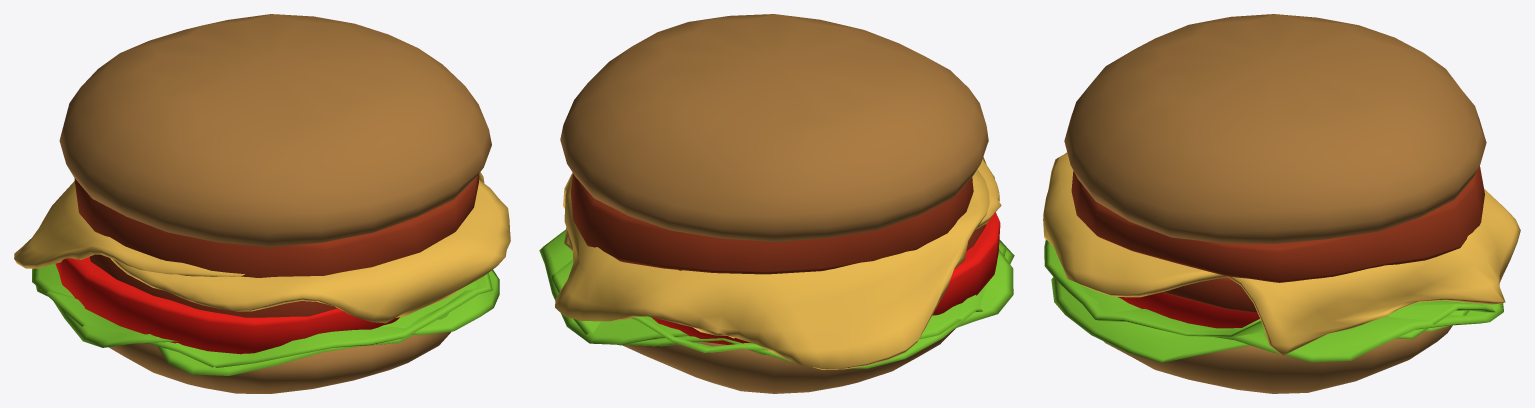
Rendered from BURGER_low_poly.fbx.
3 views of the same model, side by side, from view 1: azimuth 30°, elevation 25°; view 2: azimuth 150°, elevation 25°; view 3: azimuth 270°, elevation 25° (orthographic).
Visible parts, largest first — view 1: top, cheese.001, meat, tomato, bottom, cheese, salat.002, salat.001, salat, meat.001; view 2: top, cheese, meat, bottom, salat, tomato, salat.001, salat.002, cheese.001; view 3: top, cheese, meat, cheese.001, bottom, salat.001, salat.002, salat, tomato, meat.001.
Part boxes in pixels (left/top/right/bottom): top: left=59, top=14, right=491, bottom=247; cheese.001: left=110, top=180, right=510, bottom=323; meat: left=74, top=173, right=479, bottom=277; tomato: left=55, top=256, right=399, bottom=354; bottom: left=108, top=331, right=451, bottom=393; cheese: left=14, top=172, right=484, bottom=276; salat.002: left=35, top=273, right=492, bottom=367; salat.001: left=54, top=270, right=499, bottom=347; salat: left=32, top=264, right=449, bottom=375; meat.001: left=90, top=254, right=337, bottom=317; top: left=560, top=14, right=988, bottom=241; cheese: left=555, top=169, right=989, bottom=369; meat: left=571, top=173, right=973, bottom=274; bottom: left=622, top=328, right=955, bottom=393; salat: left=539, top=229, right=1014, bottom=355; tomato: left=651, top=212, right=1000, bottom=344; salat.001: left=631, top=250, right=1013, bottom=352; salat.002: left=550, top=245, right=1006, bottom=368; cheese.001: left=975, top=157, right=1001, bottom=229; top: left=1064, top=14, right=1486, bottom=243; cheese: left=1227, top=188, right=1520, bottom=355; meat: left=1071, top=166, right=1484, bottom=282; cheese.001: left=1043, top=152, right=1227, bottom=297; bottom: left=1103, top=325, right=1452, bottom=393; salat.001: left=1051, top=270, right=1469, bottom=362; salat.002: left=1044, top=239, right=1495, bottom=339; salat: left=1215, top=303, right=1503, bottom=362; tomato: left=1118, top=292, right=1259, bottom=328; meat.001: left=1162, top=277, right=1257, bottom=313.
Bounding box in the file's own units: 71.21 × 45.34 × 69.53.
